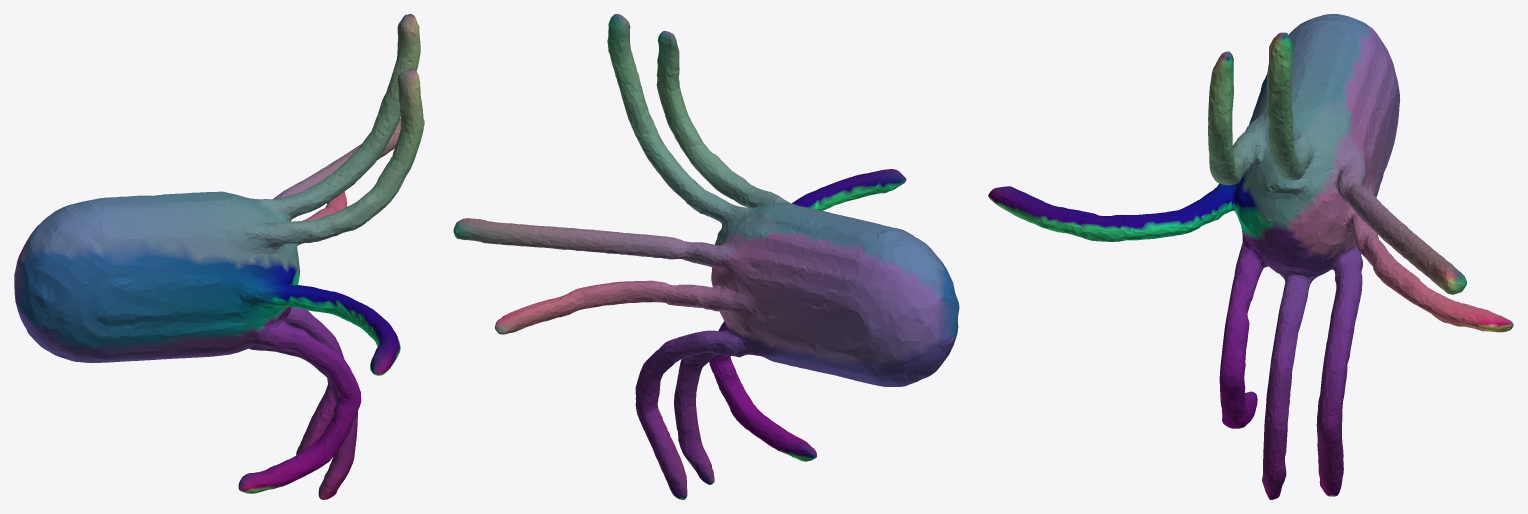
Rendered from octopus-4.off.obj.
3 views of the same model, side by side, from view 1: azimuth 30°, elevation 25°; view 2: azimuth 150°, elevation 25°; view 3: azimuth 270°, elevation 25° (orthographic). The views are drawn at different scales.
Size of the model in its own units: 1.49 by 1.44 by 1.33.
